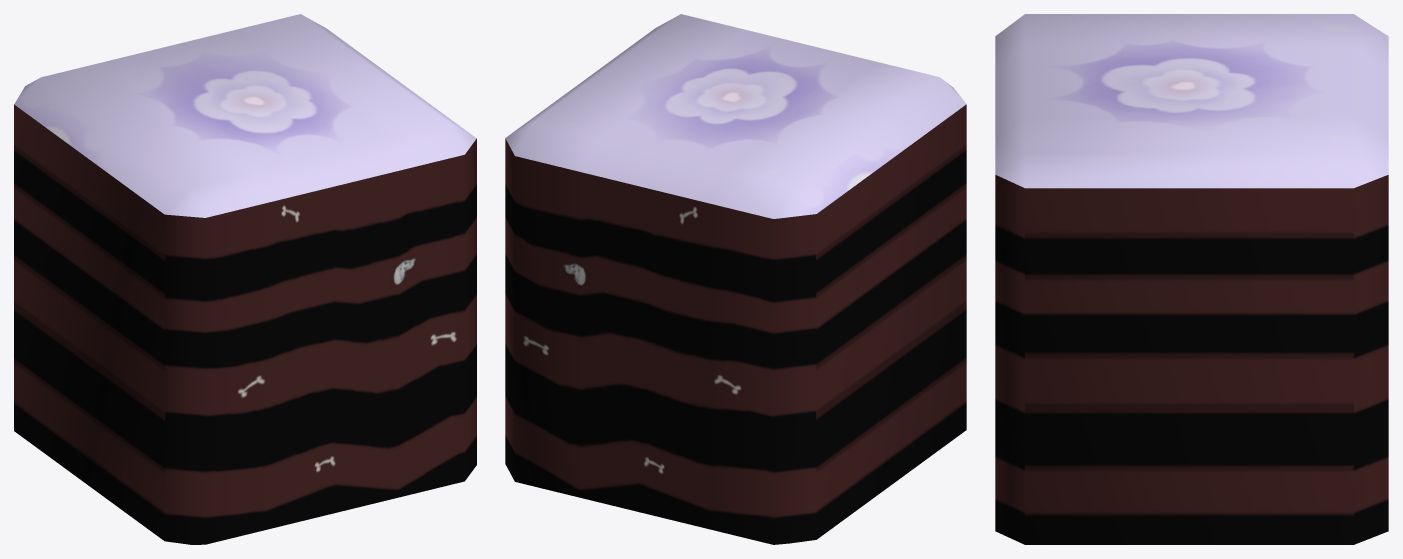
Rendered from rd_a11a_blue.obj.
3 views of the same model, side by side, from view 1: azimuth 30°, elevation 25°; view 2: azimuth 150°, elevation 25°; view 3: azimuth 270°, elevation 25° (orthographic). The views are drawn at different scales.
Parts seen in each view (by area): view 1: polySurface13; view 2: polySurface13; view 3: polySurface13.
Boxes of the visible parts, x1,y1,x2,y2 form: polySurface13: (14, 14, 476, 544); polySurface13: (505, 14, 966, 544); polySurface13: (995, 14, 1388, 544).
Size of the model in its own units: 100 by 109 by 100.
